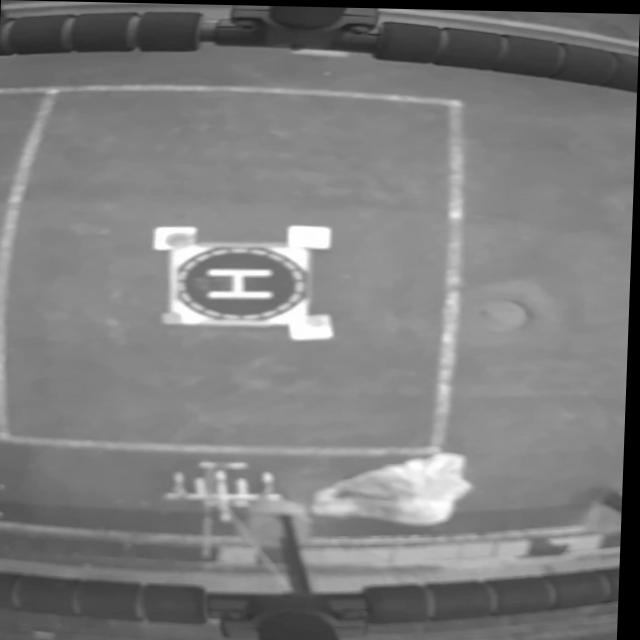Helipad: (206, 268, 274, 298)
